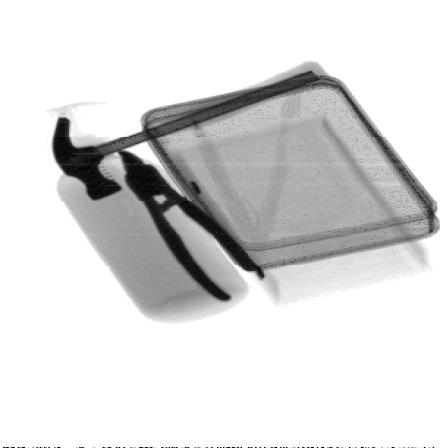Hammer: (50, 60, 333, 200)
Pliers: (121, 149, 261, 302)
